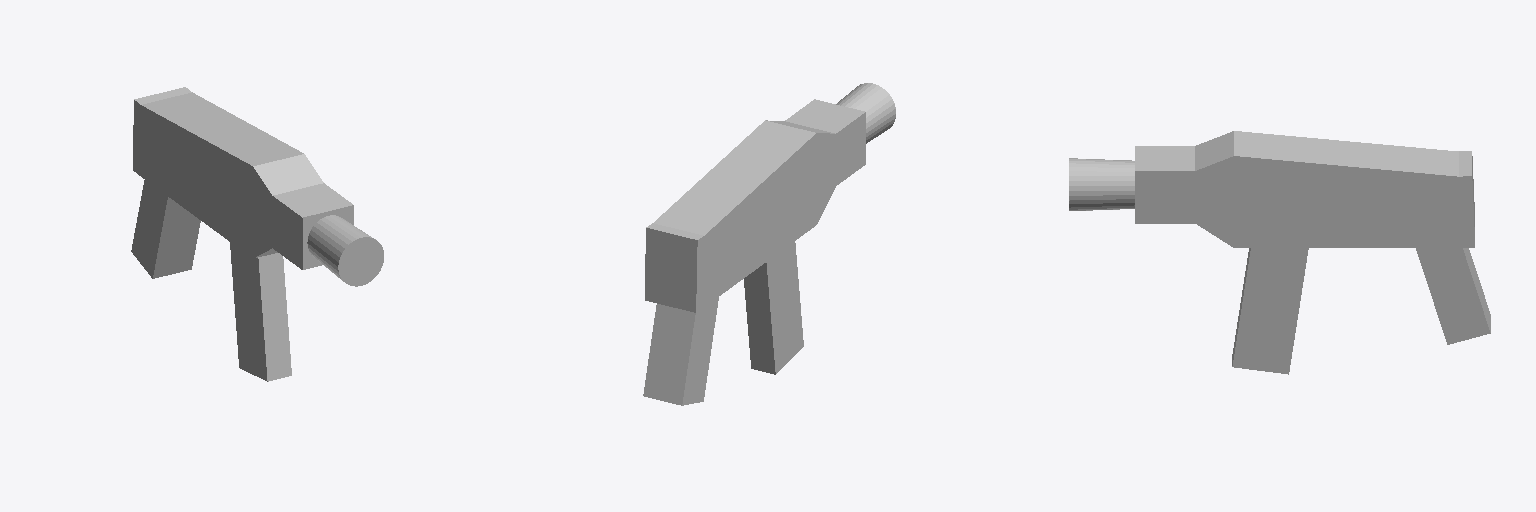
The model's file is SWIFTSPARK.obj.
3 views of the same model, side by side, from view 1: azimuth 30°, elevation 25°; view 2: azimuth 150°, elevation 25°; view 3: azimuth 270°, elevation 25° (orthographic).
Visible parts, largest first — view 1: Cube_Cube.002; view 2: Cube_Cube.002; view 3: Cube_Cube.002.
Part boxes in pixels (left/top/right/bottom): Cube_Cube.002: left=131, top=87, right=383, bottom=381; Cube_Cube.002: left=643, top=83, right=895, bottom=405; Cube_Cube.002: left=1069, top=131, right=1490, bottom=374.
Size of the model in its own units: 1.36 by 5.68 by 9.63.